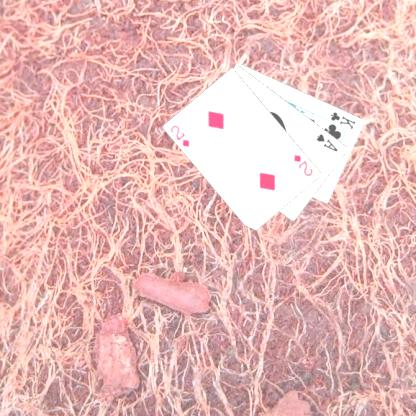2D: (291, 152, 314, 178), (168, 122, 191, 148)
AS: (314, 131, 340, 153)
KC: (323, 108, 357, 132)
